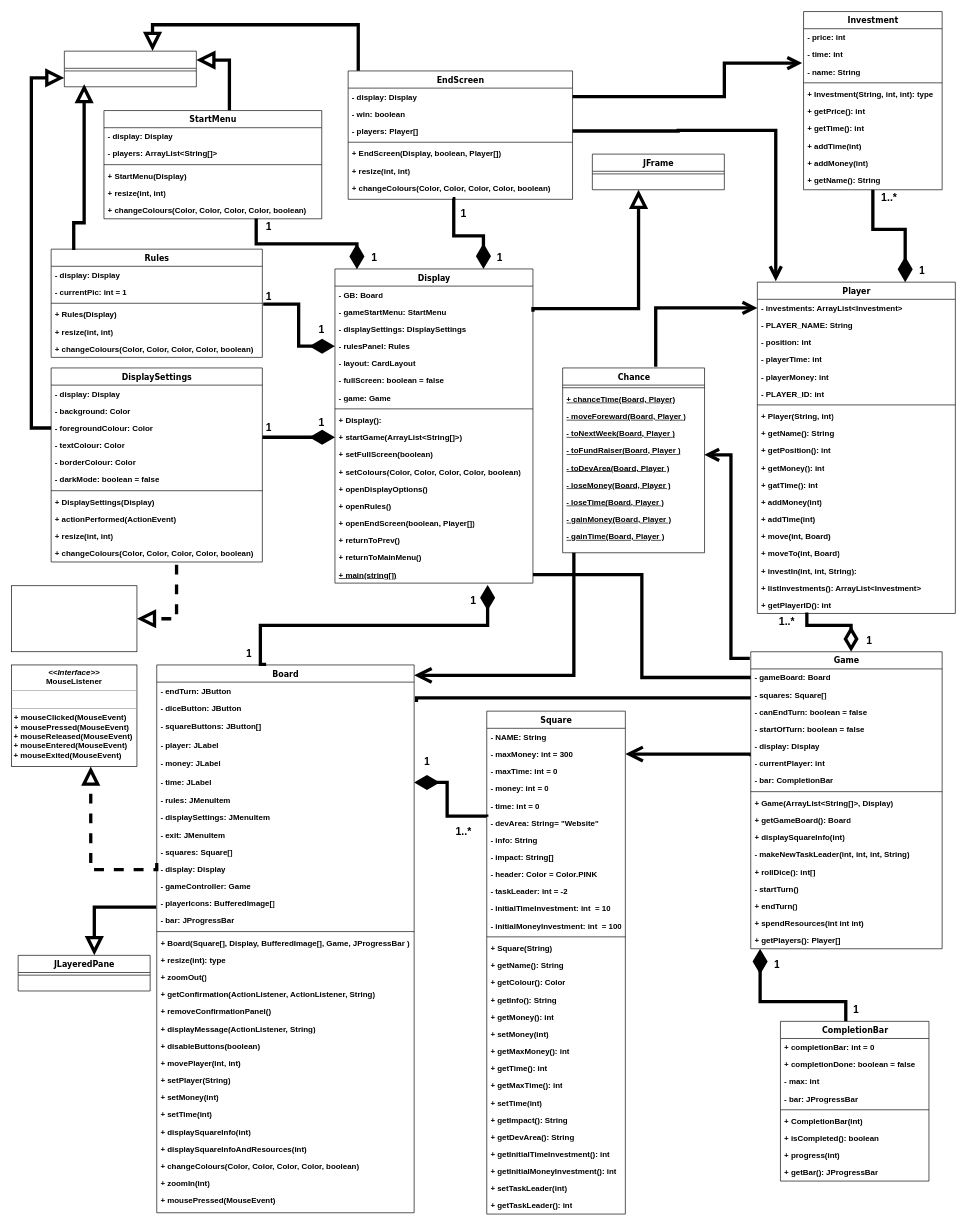
Some shapes in this 967 by 1228 pixel diagram are drawn without their labels. The centre of each missing label's shape, as x and y in pixels:
<<Interface>> ActionListener + actionPerformed(ActionEvent): the point at 74,618
JPanel: the point at 130,68
